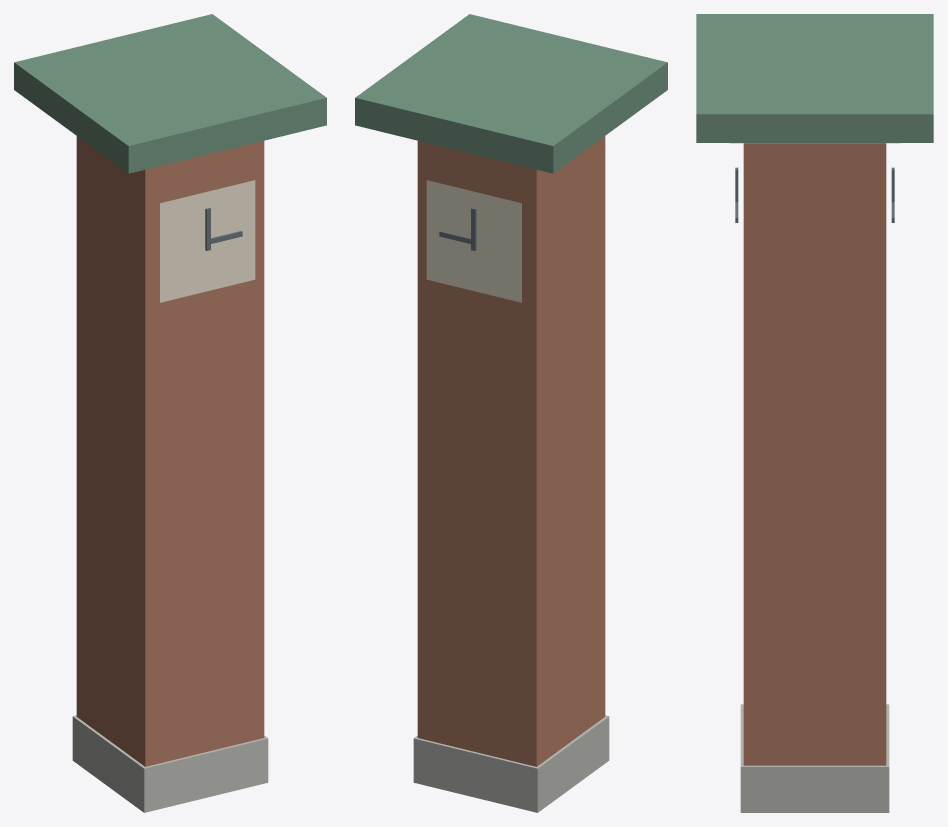
File: q03-clock.glb
3 renders of one model, left to right at view 1: azimuth 30°, elevation 25°; view 2: azimuth 150°, elevation 25°; view 3: azimuth 270°, elevation 25°, orthographic. The views are drawn at different scales.
Bounding box in the file's own units: 1.5 × 5 × 1.5.
